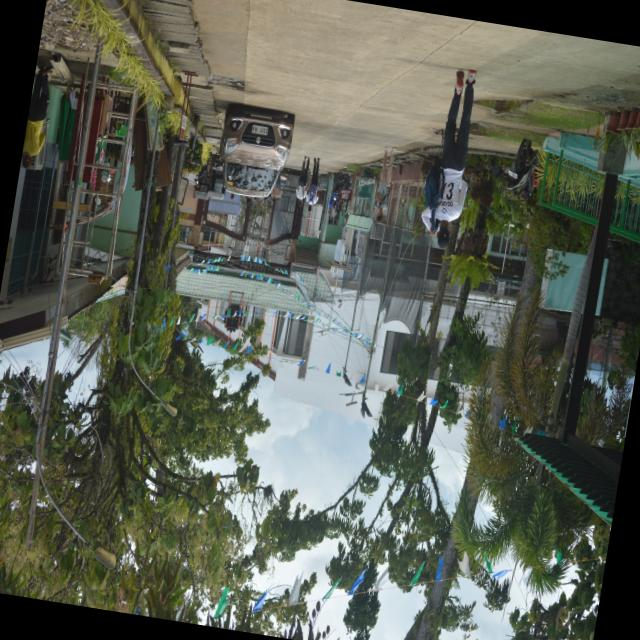person: (422, 69, 476, 247), (21, 66, 53, 167), (375, 147, 396, 220), (306, 157, 319, 211), (296, 156, 310, 206)
